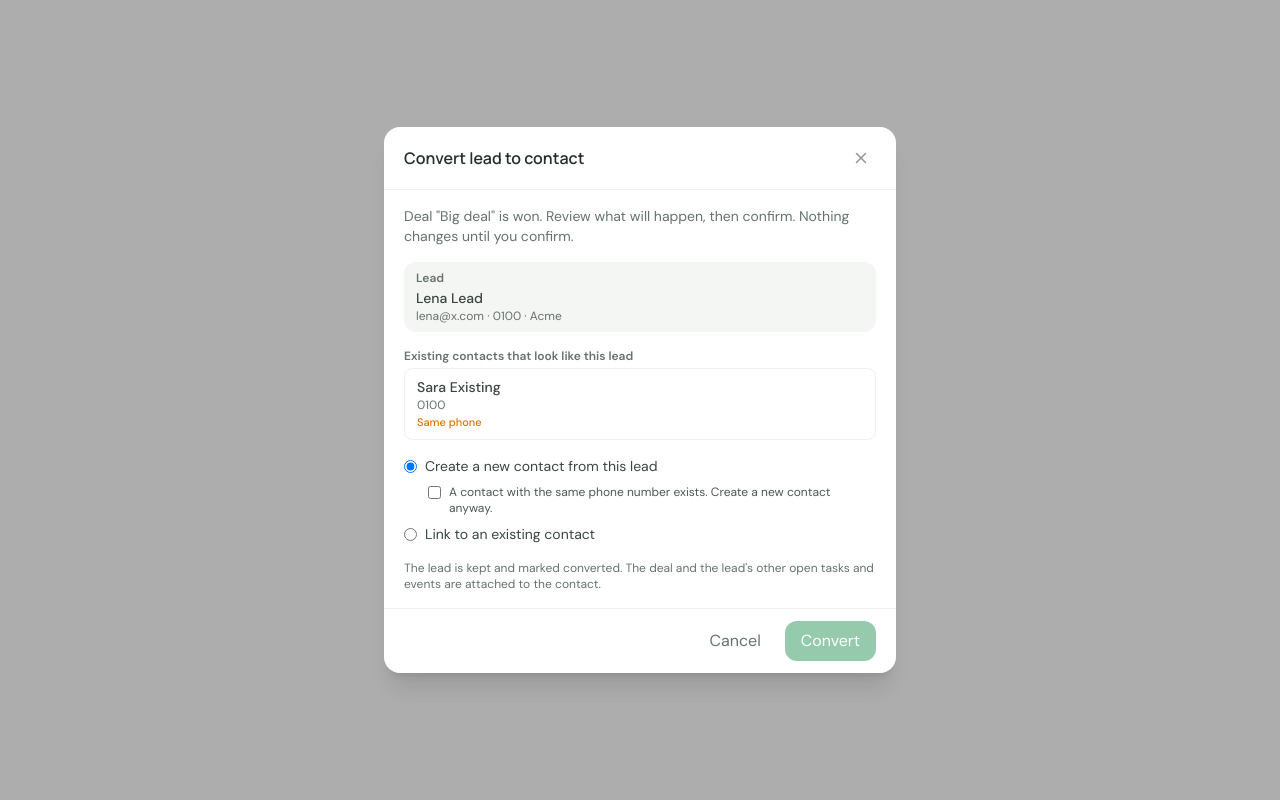
Test: ConvertLeadModal › a phone-only match needs the acknowledgement before 'Convert' is enabled, and sends it
Later steps or results of the test are not shown.
Expected: the text "Create a new contact from this lead" is shown, [425,456,658,476]
Expected: the button "Convert" is disabled, [785,621,876,661]
Click the checkbox: [434, 492] box [428,486,441,499]
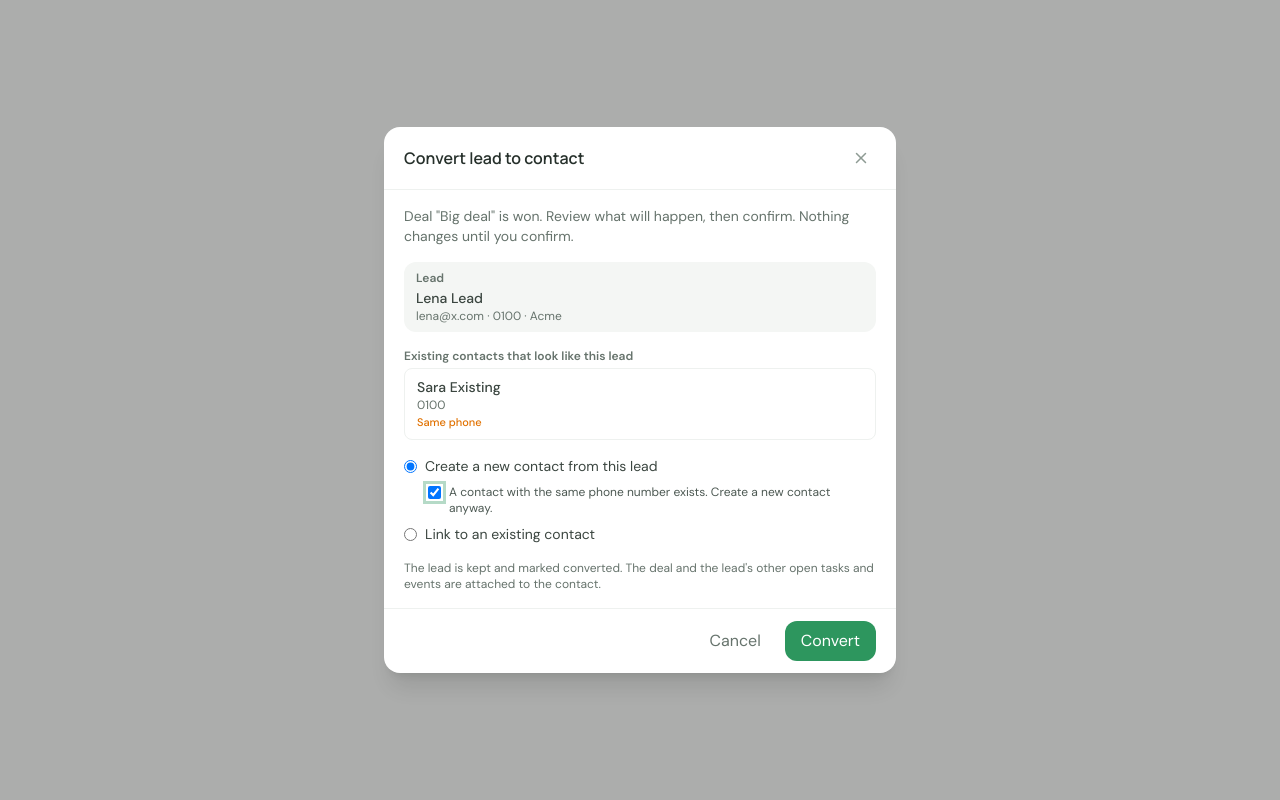
Expected: the button "Convert" is enabled, [785,621,876,661]
